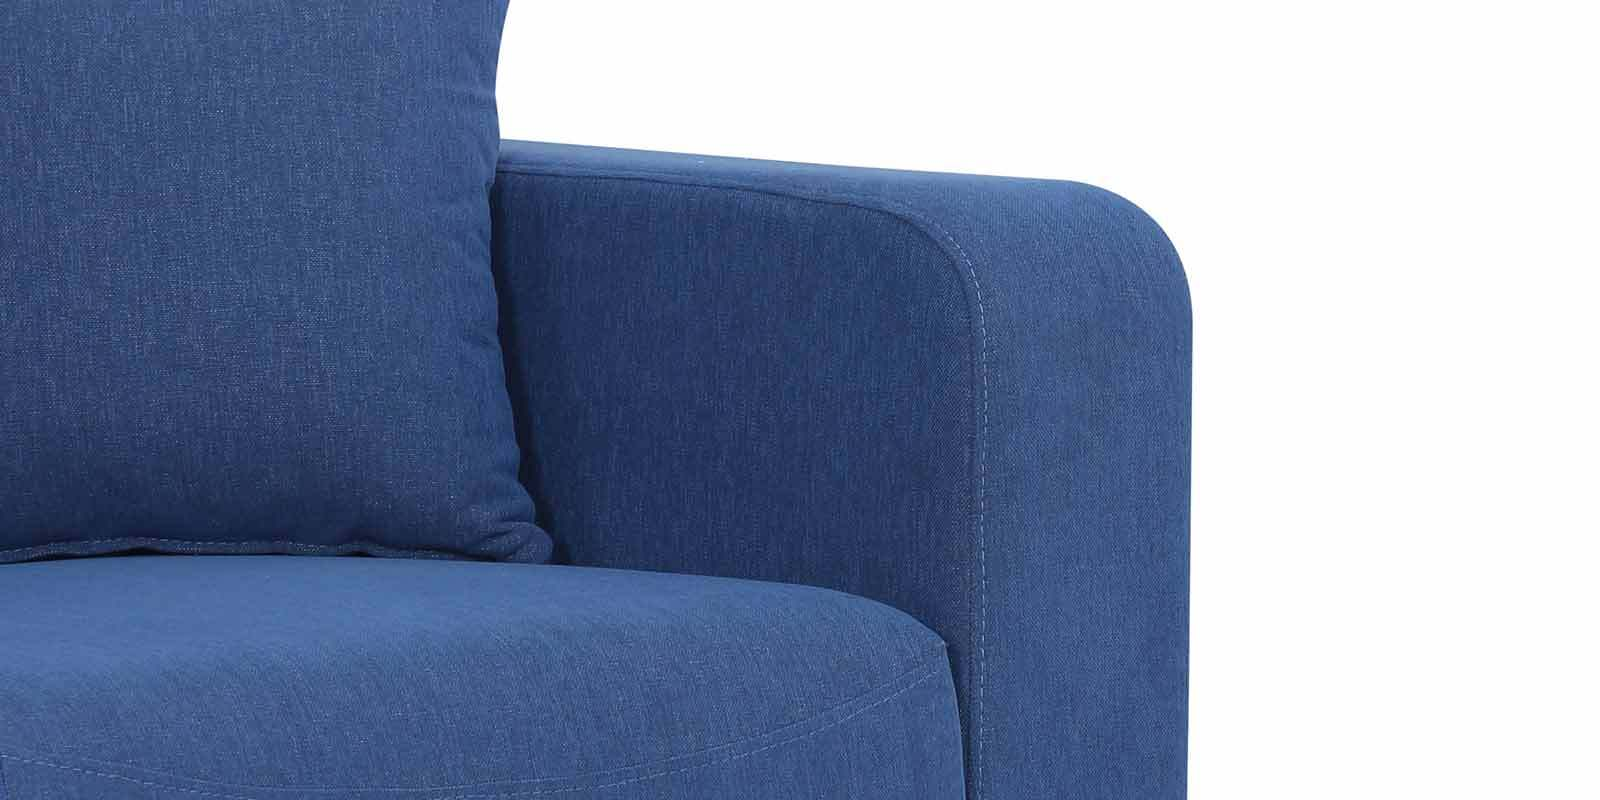Alba Three seater Seater Sofa in Denim Blue Colour by CasaCraft: (5, 3, 1207, 800)
